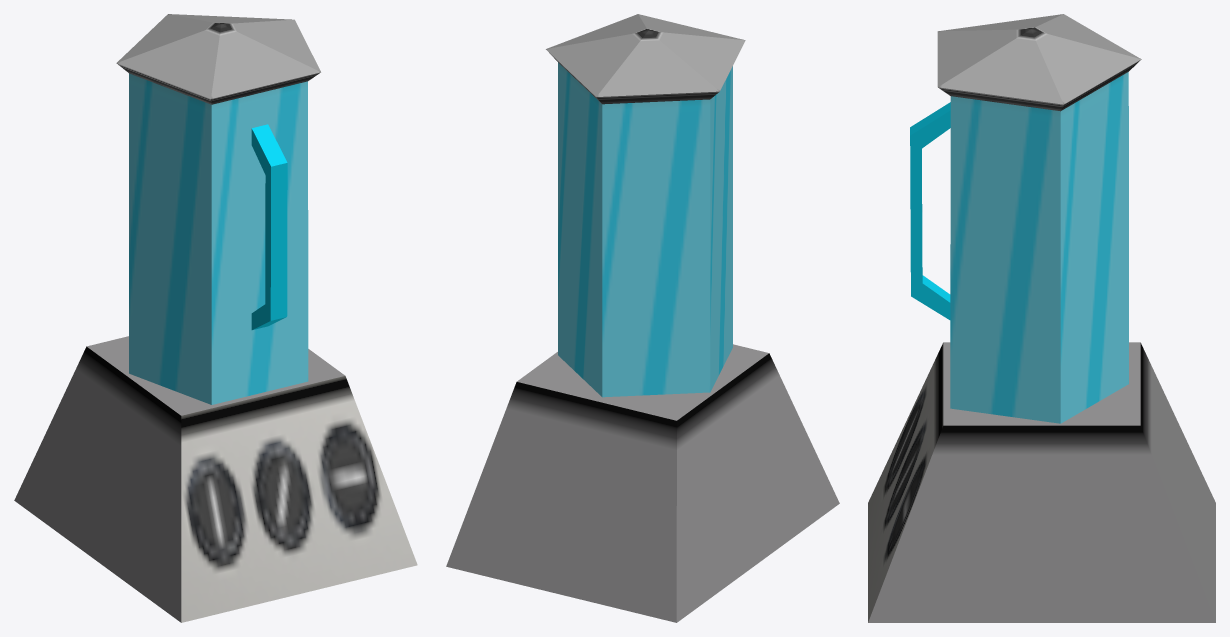
The model's file is Blender.fbx.
3 views of the same model, side by side, from view 1: azimuth 30°, elevation 25°; view 2: azimuth 150°, elevation 25°; view 3: azimuth 270°, elevation 25° (orthographic). The views are drawn at different scales.
Visible parts, largest first — view 1: Maya_File_Assets:TexturedAssetsCurrent:joshimport:blender; view 2: Maya_File_Assets:TexturedAssetsCurrent:joshimport:blender; view 3: Maya_File_Assets:TexturedAssetsCurrent:joshimport:blender.
Boxes of the visible parts, <box> form: Maya_File_Assets:TexturedAssetsCurrent:joshimport:blender: <box>14,14,417,622</box>; Maya_File_Assets:TexturedAssetsCurrent:joshimport:blender: <box>446,14,839,622</box>; Maya_File_Assets:TexturedAssetsCurrent:joshimport:blender: <box>868,14,1215,622</box>.
Bounding box in the file's own units: 0.226 × 0.4683 × 0.2768.
